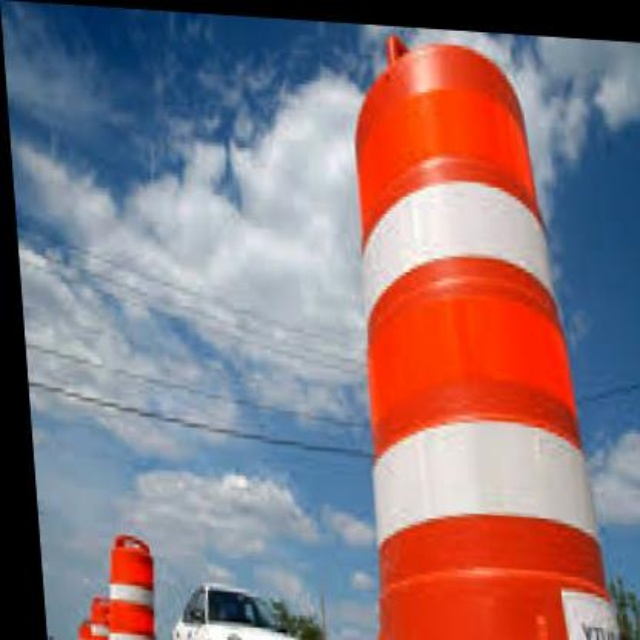obstacle: (329, 46, 597, 640)
